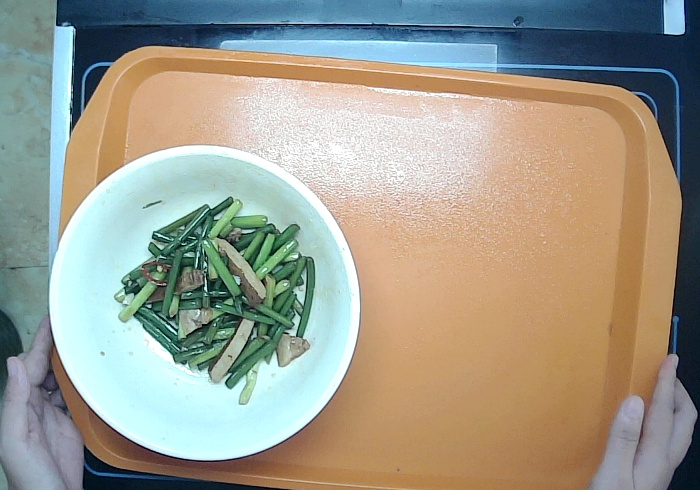ZNLD-Da_Tang_Wan: (44, 143, 363, 462)
